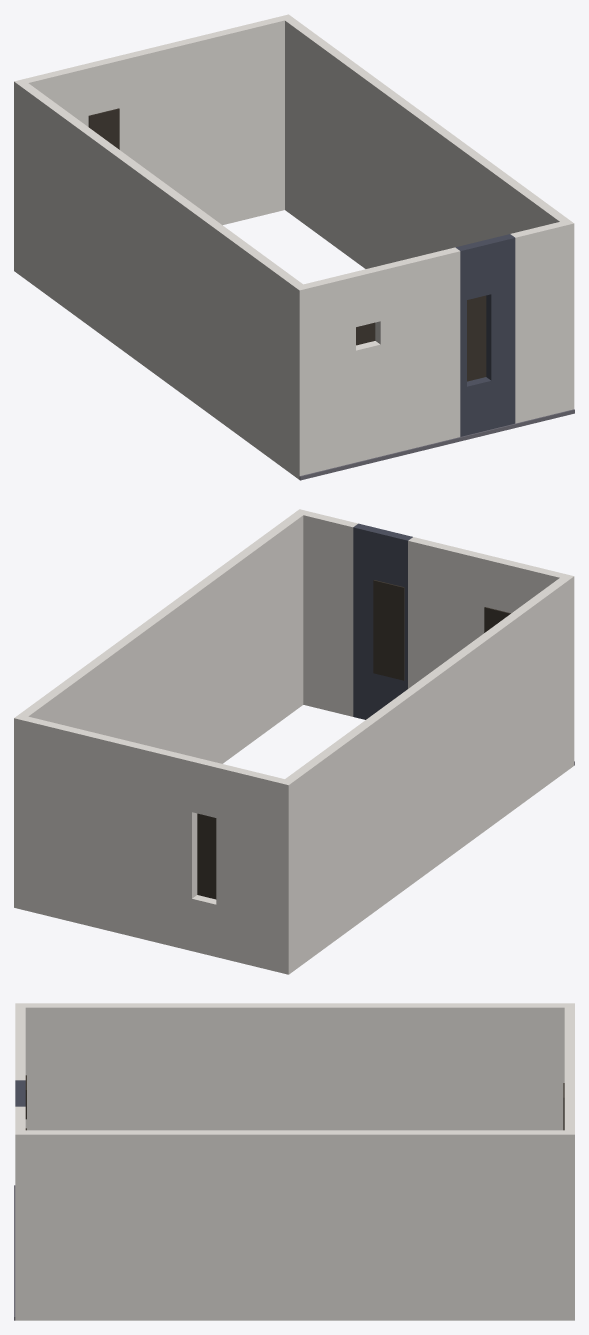
File: SM_Floor_NarrowUpperScatterHigh_White_455_Back_01.gltf
3 renders of one model, top to bottom at view 1: azimuth 30°, elevation 25°; view 2: azimuth 150°, elevation 25°; view 3: azimuth 270°, elevation 25°, orthographic. The views are drawn at different scales.
Visible parts, largest first — view 1: SM_Floor_NarrowUpperScatterHigh_White_455_Back_01; view 2: SM_Floor_NarrowUpperScatterHigh_White_455_Back_01; view 3: SM_Floor_NarrowUpperScatterHigh_White_455_Back_01.
Boxes of the visible parts, x1,y1,x2,y2 form: SM_Floor_NarrowUpperScatterHigh_White_455_Back_01: (14, 14, 574, 480); SM_Floor_NarrowUpperScatterHigh_White_455_Back_01: (14, 509, 574, 974); SM_Floor_NarrowUpperScatterHigh_White_455_Back_01: (14, 1003, 574, 1320).
Size of the model in its own units: 4.55 by 3 by 8.21.
1 material, 1 textured.
